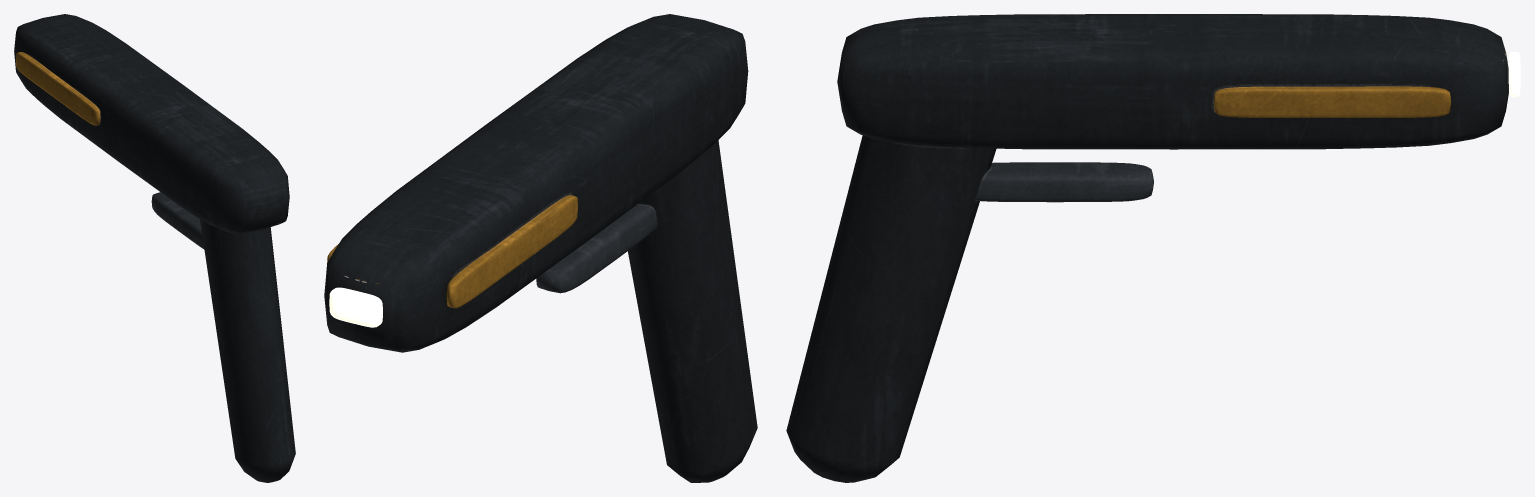
Rendered from sp2_body.glb.
3 renders of one model, left to right at view 1: azimuth 30°, elevation 25°; view 2: azimuth 150°, elevation 25°; view 3: azimuth 270°, elevation 25°, orthographic. The views are drawn at different scales.
Visible parts, largest first — view 1: sp2_body; view 2: sp2_body; view 3: sp2_body.
Boxes of the visible parts, x1=… form: sp2_body: x1=14, y1=14, x2=295, y2=482; sp2_body: x1=324, y1=14, x2=757, y2=482; sp2_body: x1=786, y1=14, x2=1520, y2=482.
Bounding box in the file's own units: 0.036 × 0.1248 × 0.1853.
Materials: 2 (1 with a texture image).
